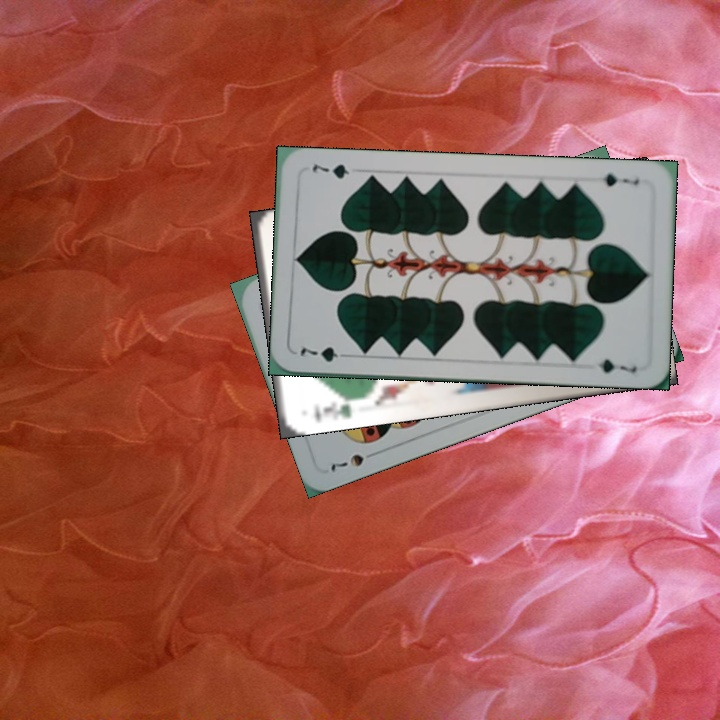G7: (296, 342, 353, 364), (591, 170, 641, 189)
GK: (310, 393, 360, 425)
S7: (326, 447, 382, 474)
